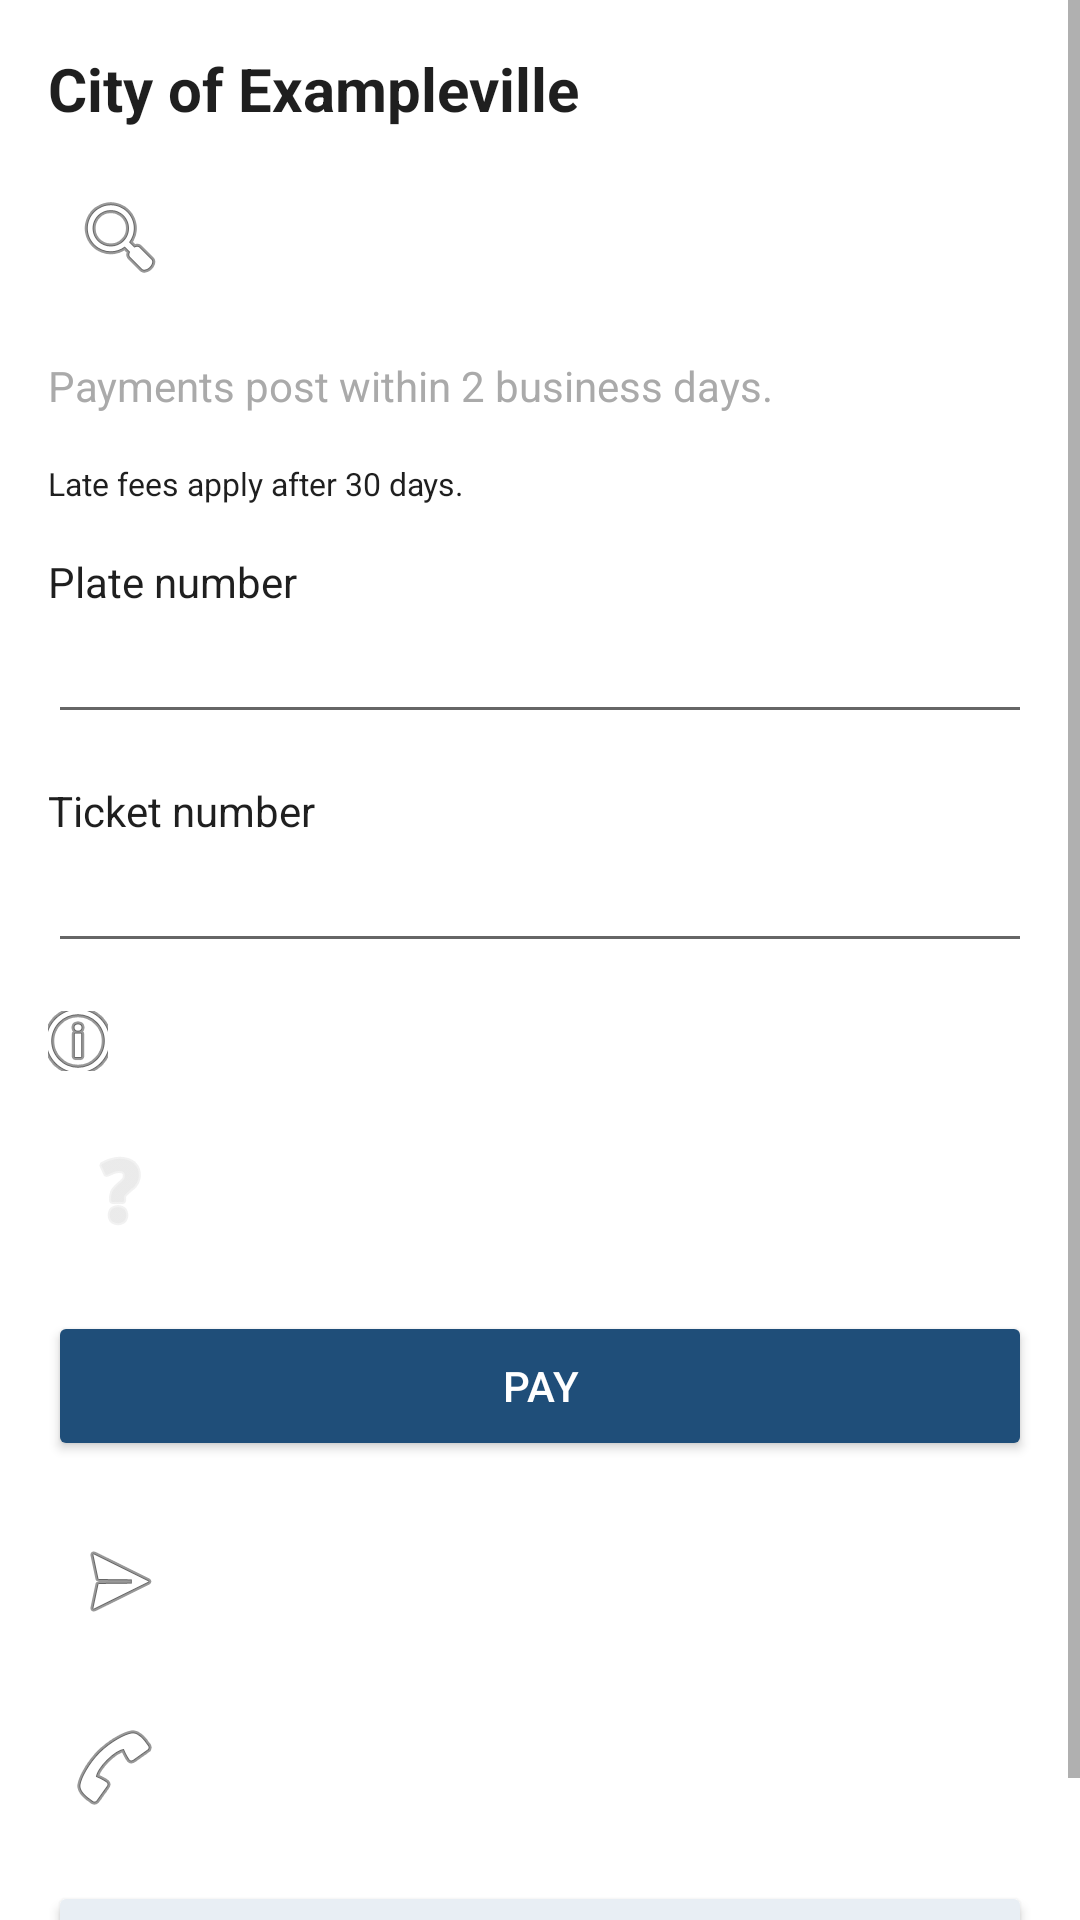

Locate icon controls on the screen. Image size 1080px×1920px, boxes as (x1, y1, x2, y2).
Call support: (77, 1730, 152, 1805)
More info: (48, 1011, 108, 1071)
search: (84, 202, 156, 273)
send: (90, 1551, 152, 1612)
